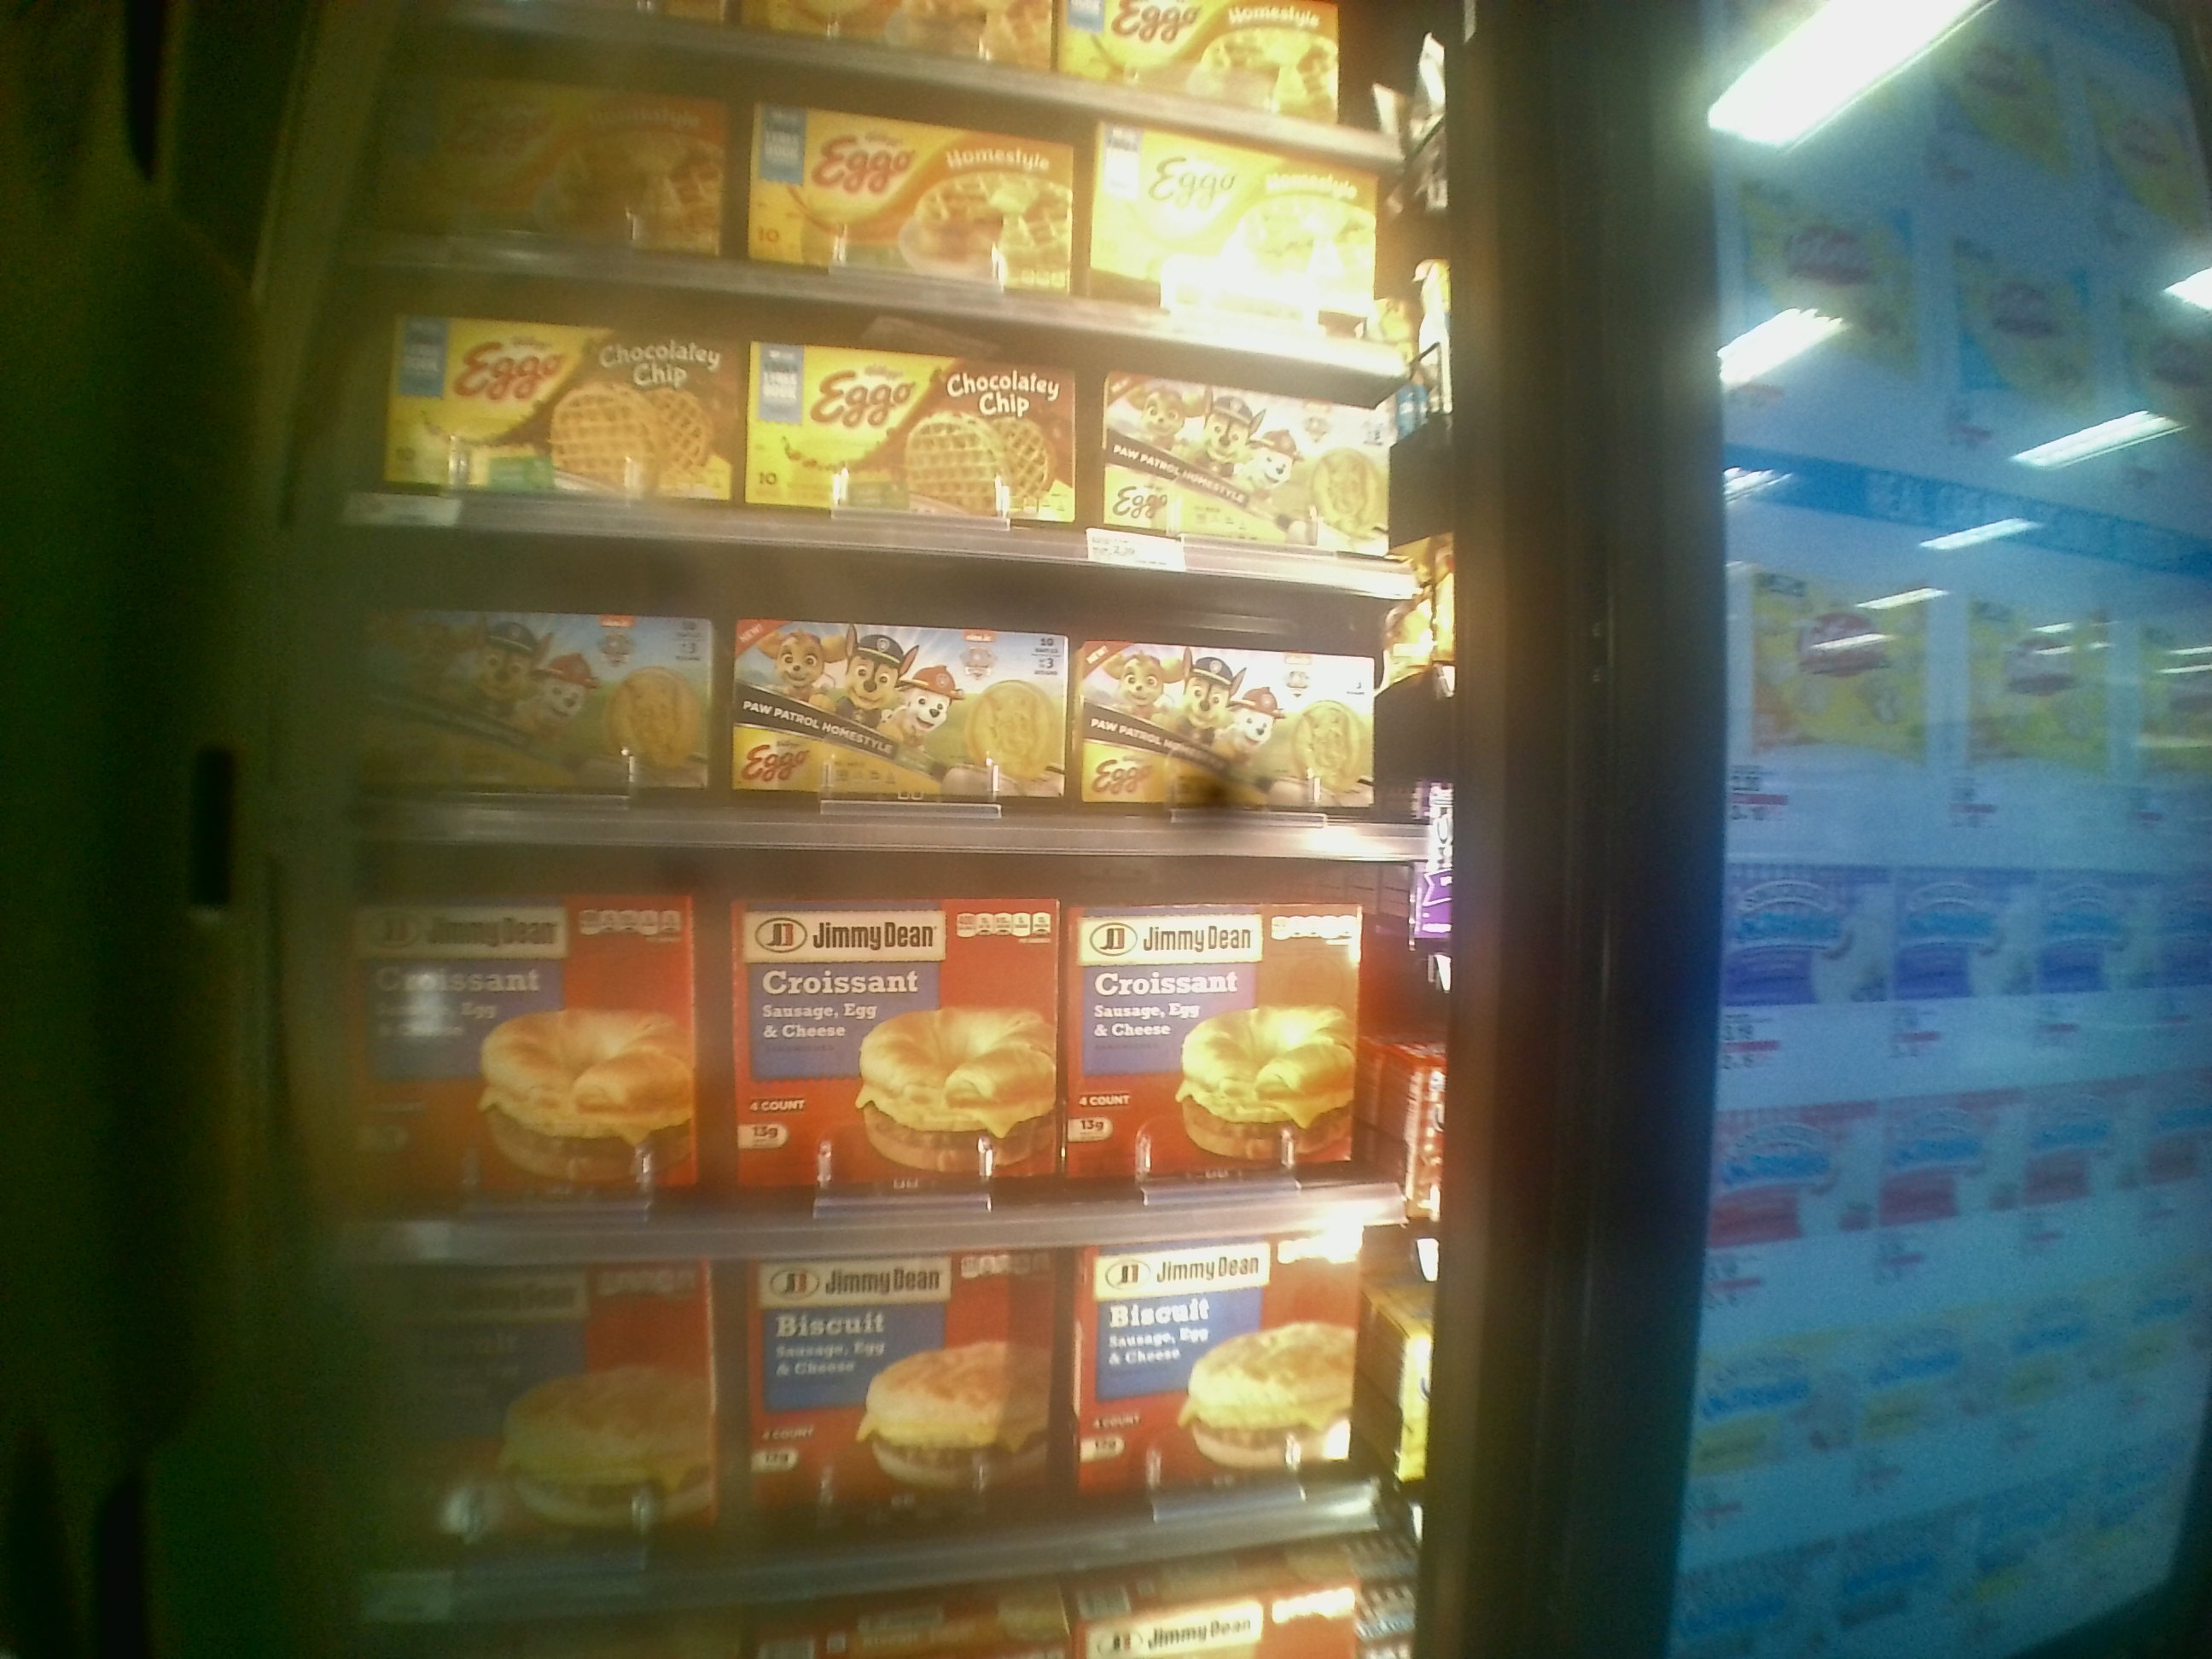frozen-food-shelf: (334, 842, 1433, 1260)
